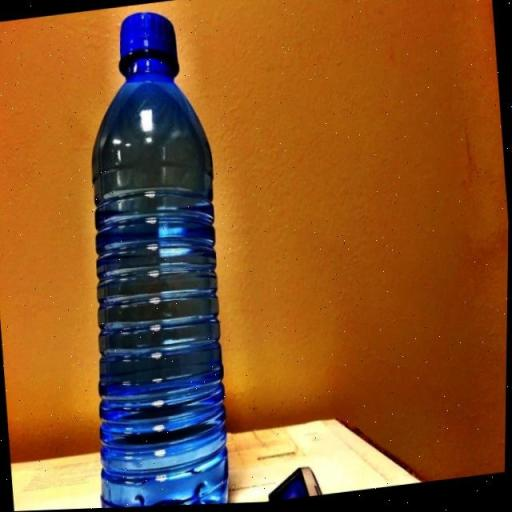plastic: (58, 1, 248, 510)
